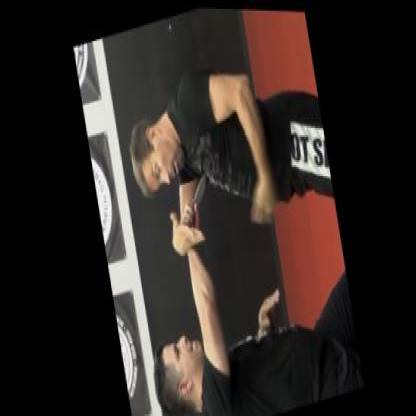knife: (172, 167, 214, 235)
